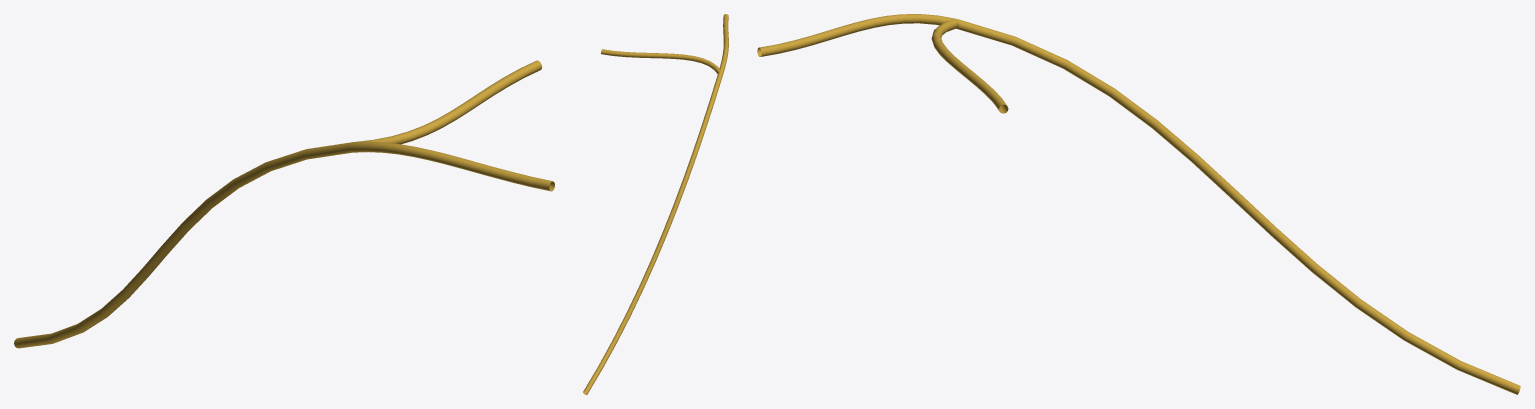
3 views of the same model, side by side, from view 1: azimuth 30°, elevation 25°; view 2: azimuth 150°, elevation 25°; view 3: azimuth 270°, elevation 25° (orthographic). The views are drawn at different scales.
Visible parts, largest first — view 1: 右侧生殖股神经; view 2: 右侧生殖股神经; view 3: 右侧生殖股神经.
Part boxes in pixels (bbox=[...]): 右侧生殖股神经: bbox=[14, 60, 554, 348]; 右侧生殖股神经: bbox=[583, 14, 728, 394]; 右侧生殖股神经: bbox=[757, 14, 1520, 394].
Bounding box in the file's own units: 0.0415 × 0.0676 × 0.1154.
